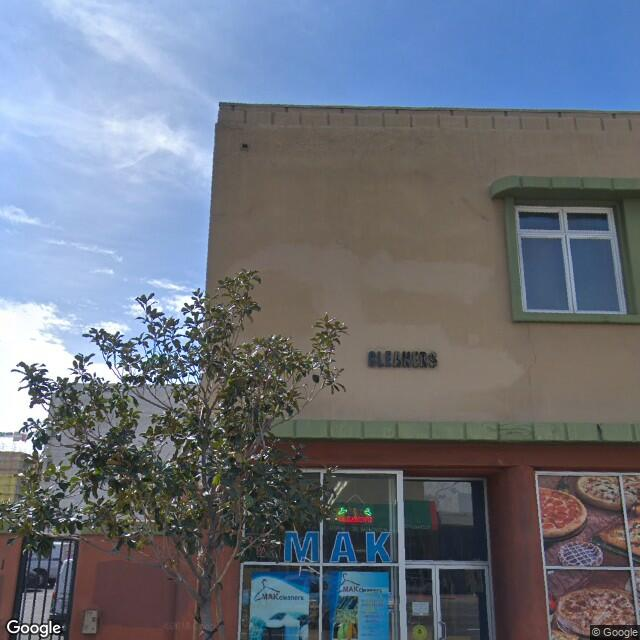window: (517, 209, 626, 316), (405, 534, 491, 640)
